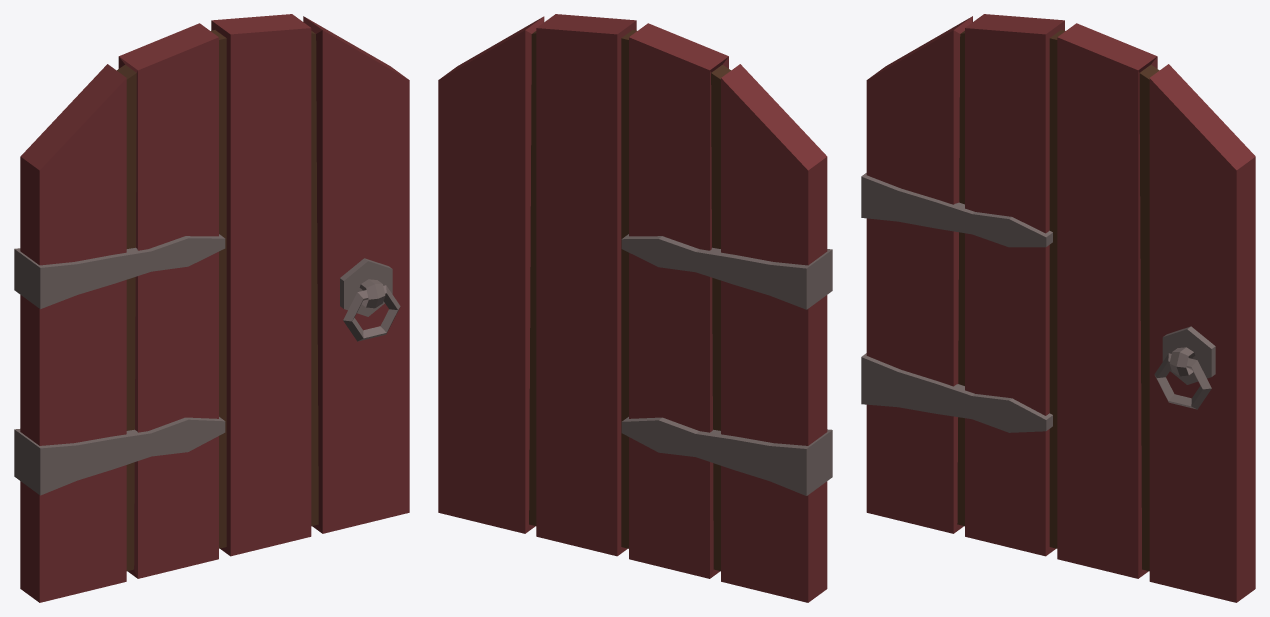
The model's file is Door.fbx.
3 views of the same model, side by side, from view 1: azimuth 30°, elevation 25°; view 2: azimuth 150°, elevation 25°; view 3: azimuth 330°, elevation 25° (orthographic).
Visible parts, largest first — view 1: Door; view 2: Door; view 3: Door.
Boxes of the visible parts, <box> form: Door: <box>14,14,409,602</box>; Door: <box>438,14,832,602</box>; Door: <box>861,14,1255,602</box>.
Size of the model in its own units: 212 by 285 by 37.05.
